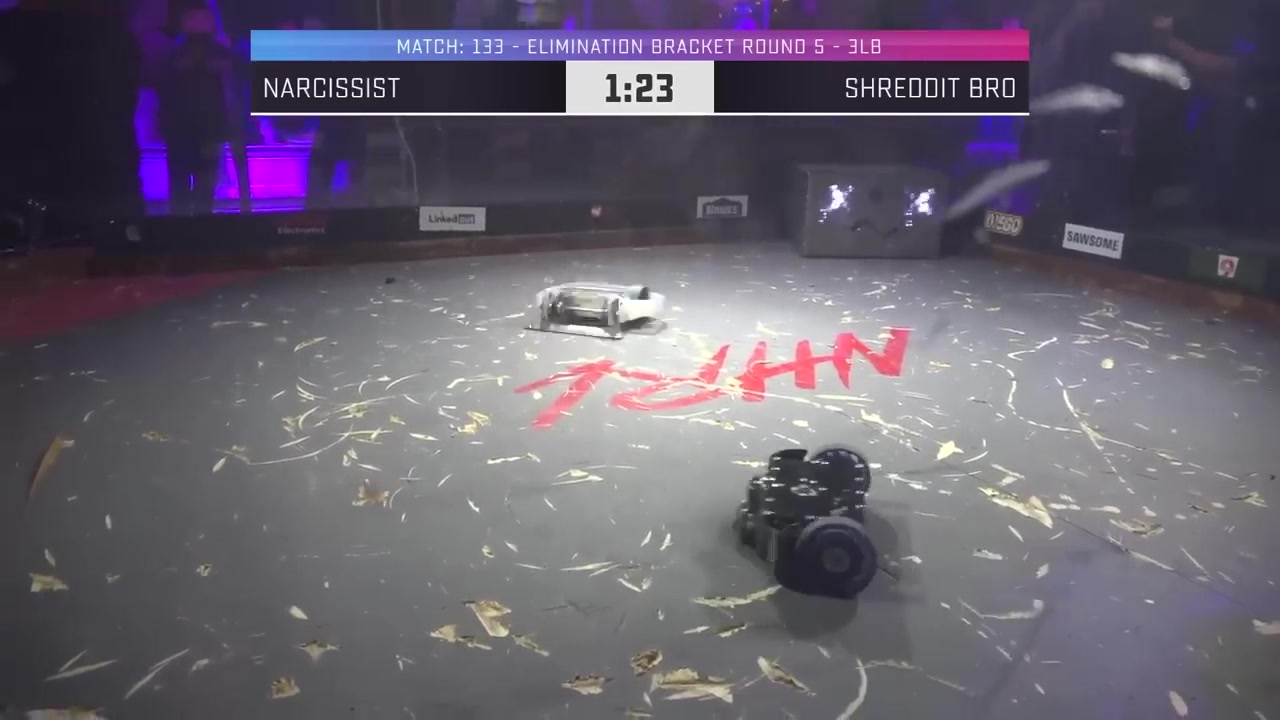combatbot: (733, 445, 880, 594), (531, 278, 666, 340)
housebot: (783, 162, 954, 261)
